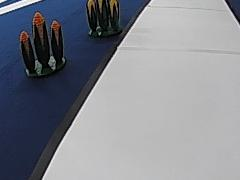corn: (17, 7, 70, 78), (82, 0, 125, 38)
